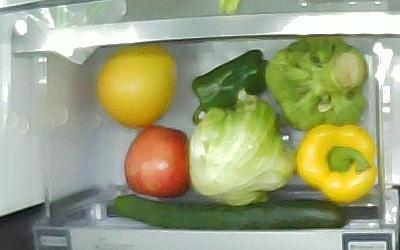apple: (125, 125, 191, 199)
broccoli: (265, 37, 369, 131)
cucumber: (112, 194, 350, 230)
grapefruit: (97, 43, 177, 130)
lettuce: (188, 89, 295, 206)
paprika: (296, 123, 378, 205), (192, 50, 270, 124)
